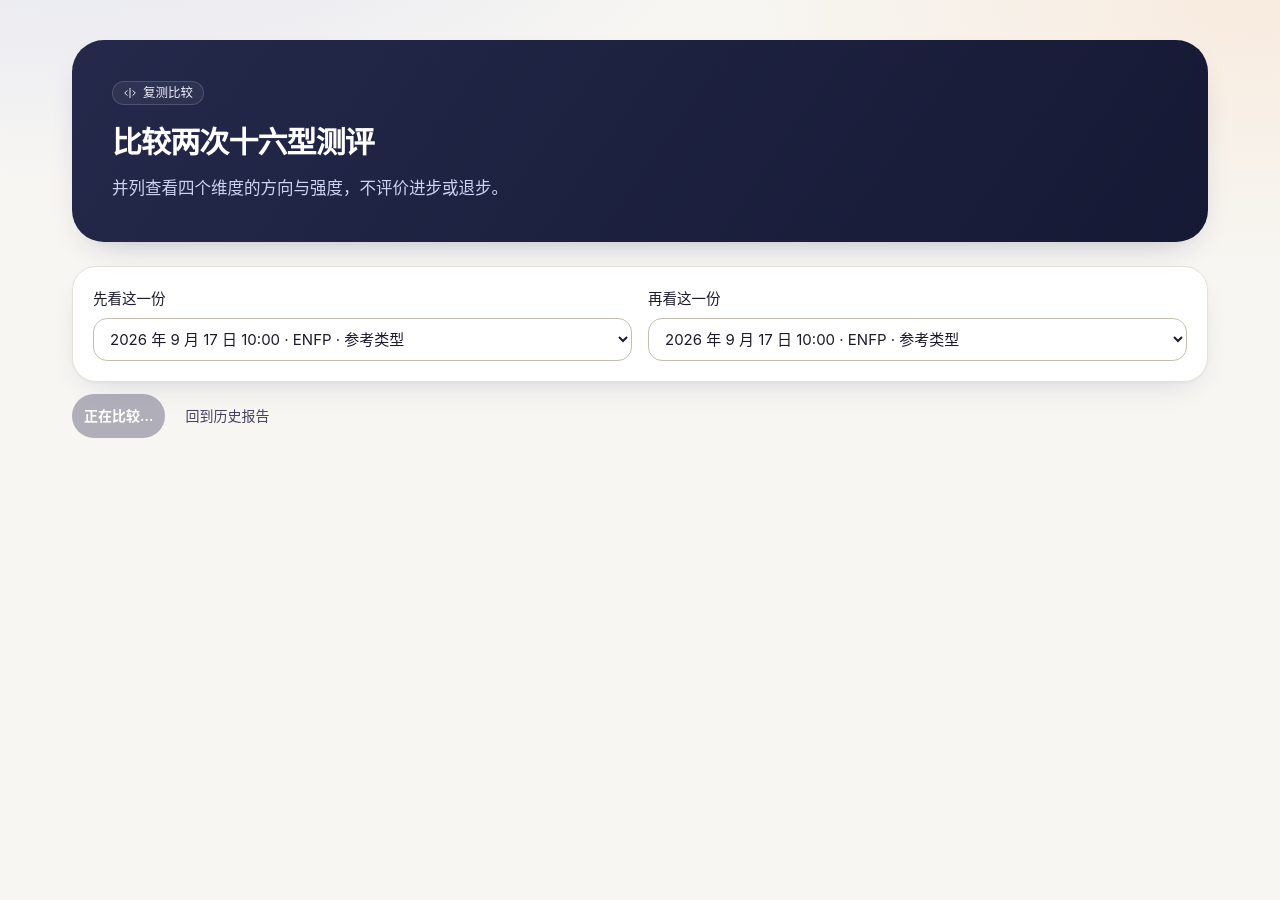
Test: 复测比较页 › 换选后旧请求晚到：不会把已经作废的那一对结果写回页面
Select "2026 年 9 月 17 日 10:00 · ENFP · 参考类型" in the dropdown labelled "再看这一份" at (918, 340), box top-left (648, 318), bottom-right (1187, 361)
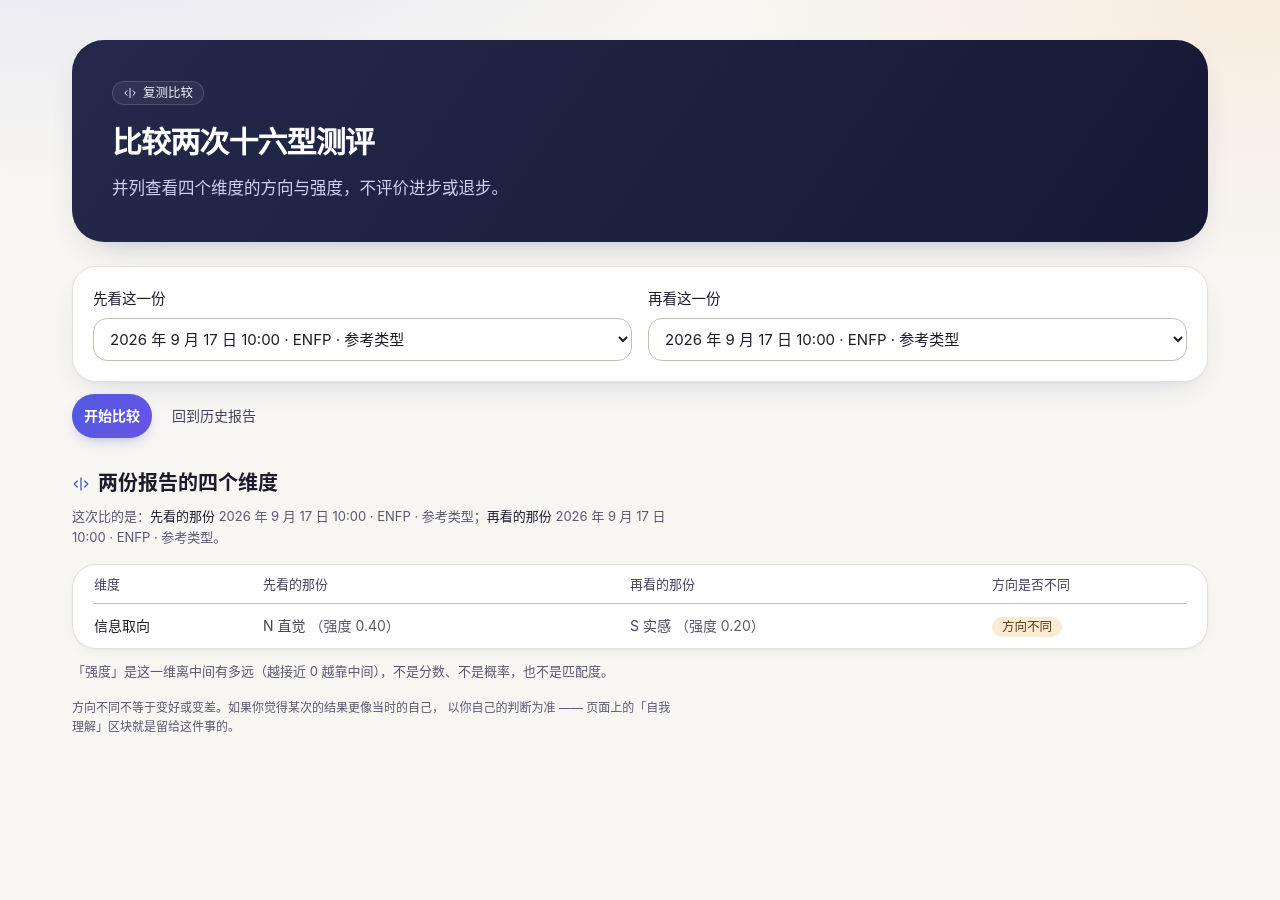
Now the row "信息取向 N 直觉 （强度 0.40） S 实感 （强度 0.20） 方向不同" is shown, box top-left (93, 604), bottom-right (1187, 648)
